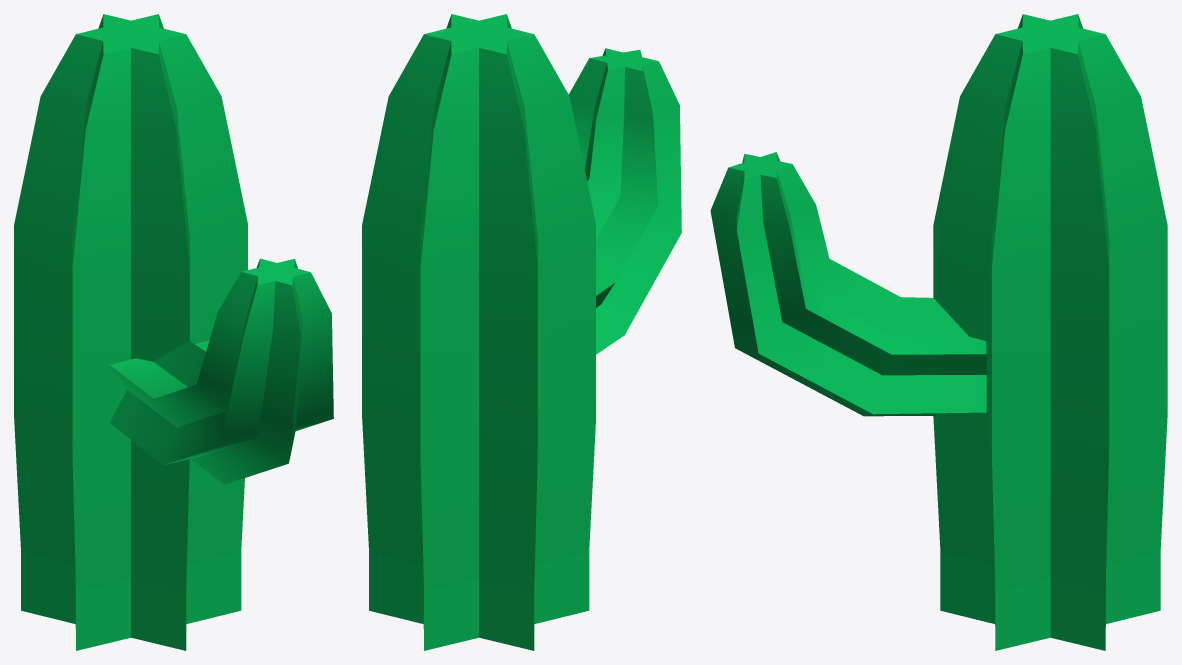
File: CactusTall.fbx
3 views of the same model, side by side, from view 1: azimuth 30°, elevation 25°; view 2: azimuth 150°, elevation 25°; view 3: azimuth 270°, elevation 25° (orthographic).
Parts seen in each view (by area): view 1: CactusTall; view 2: CactusTall; view 3: CactusTall.
Boxes of the visible parts, <box> form: CactusTall: <box>14,14,333,650</box>; CactusTall: <box>362,14,681,650</box>; CactusTall: <box>710,14,1167,650</box>.
Bounding box in the file's own units: 2.95 × 9.25 × 6.65.
